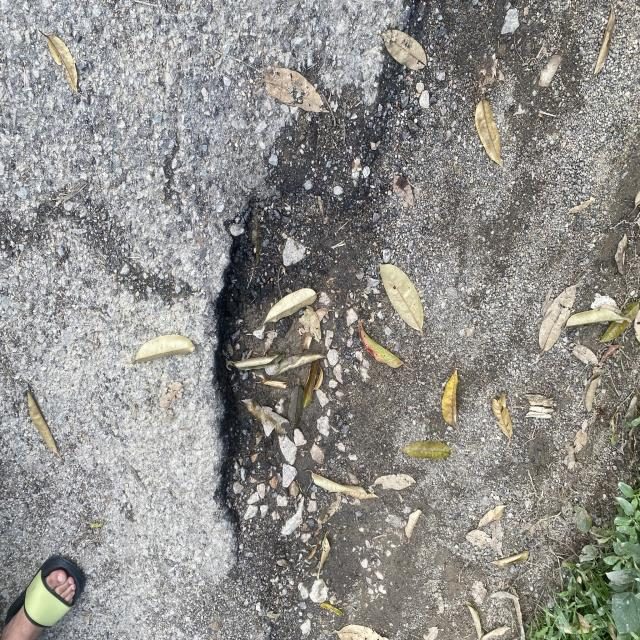pothole: (182, 122, 394, 632)
